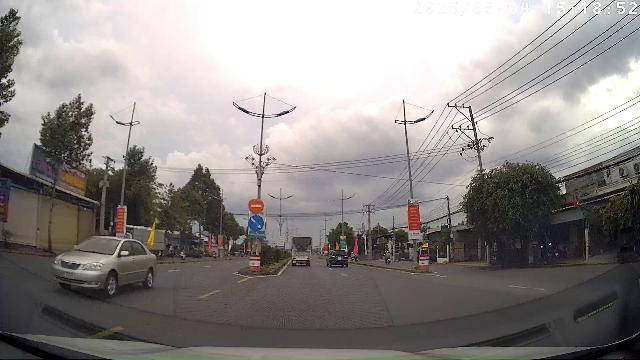102-cam-di-nguoc-chieu: (248, 198, 264, 214)
302a-huong-phai-di-vong-chuong-ngai-vat-1: (248, 215, 264, 231)
